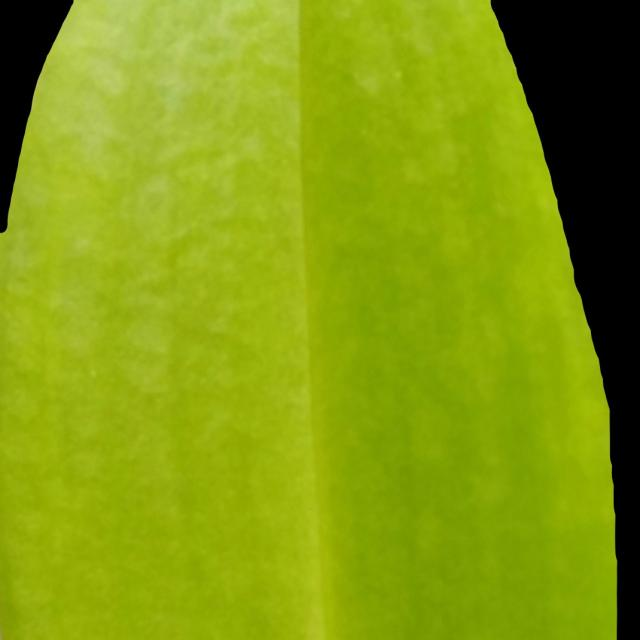mite: (5, 2, 312, 636), (346, 54, 406, 100)
spots: (2, 1, 618, 637)
